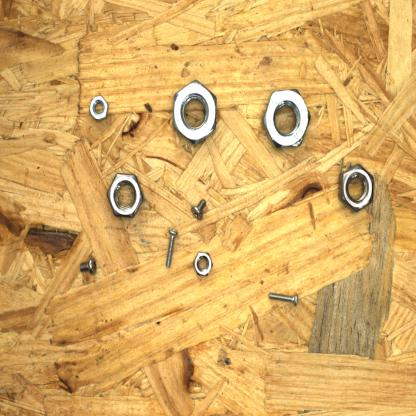screw: (266, 282, 304, 312), (78, 246, 107, 282), (163, 223, 181, 274), (188, 196, 214, 227)
